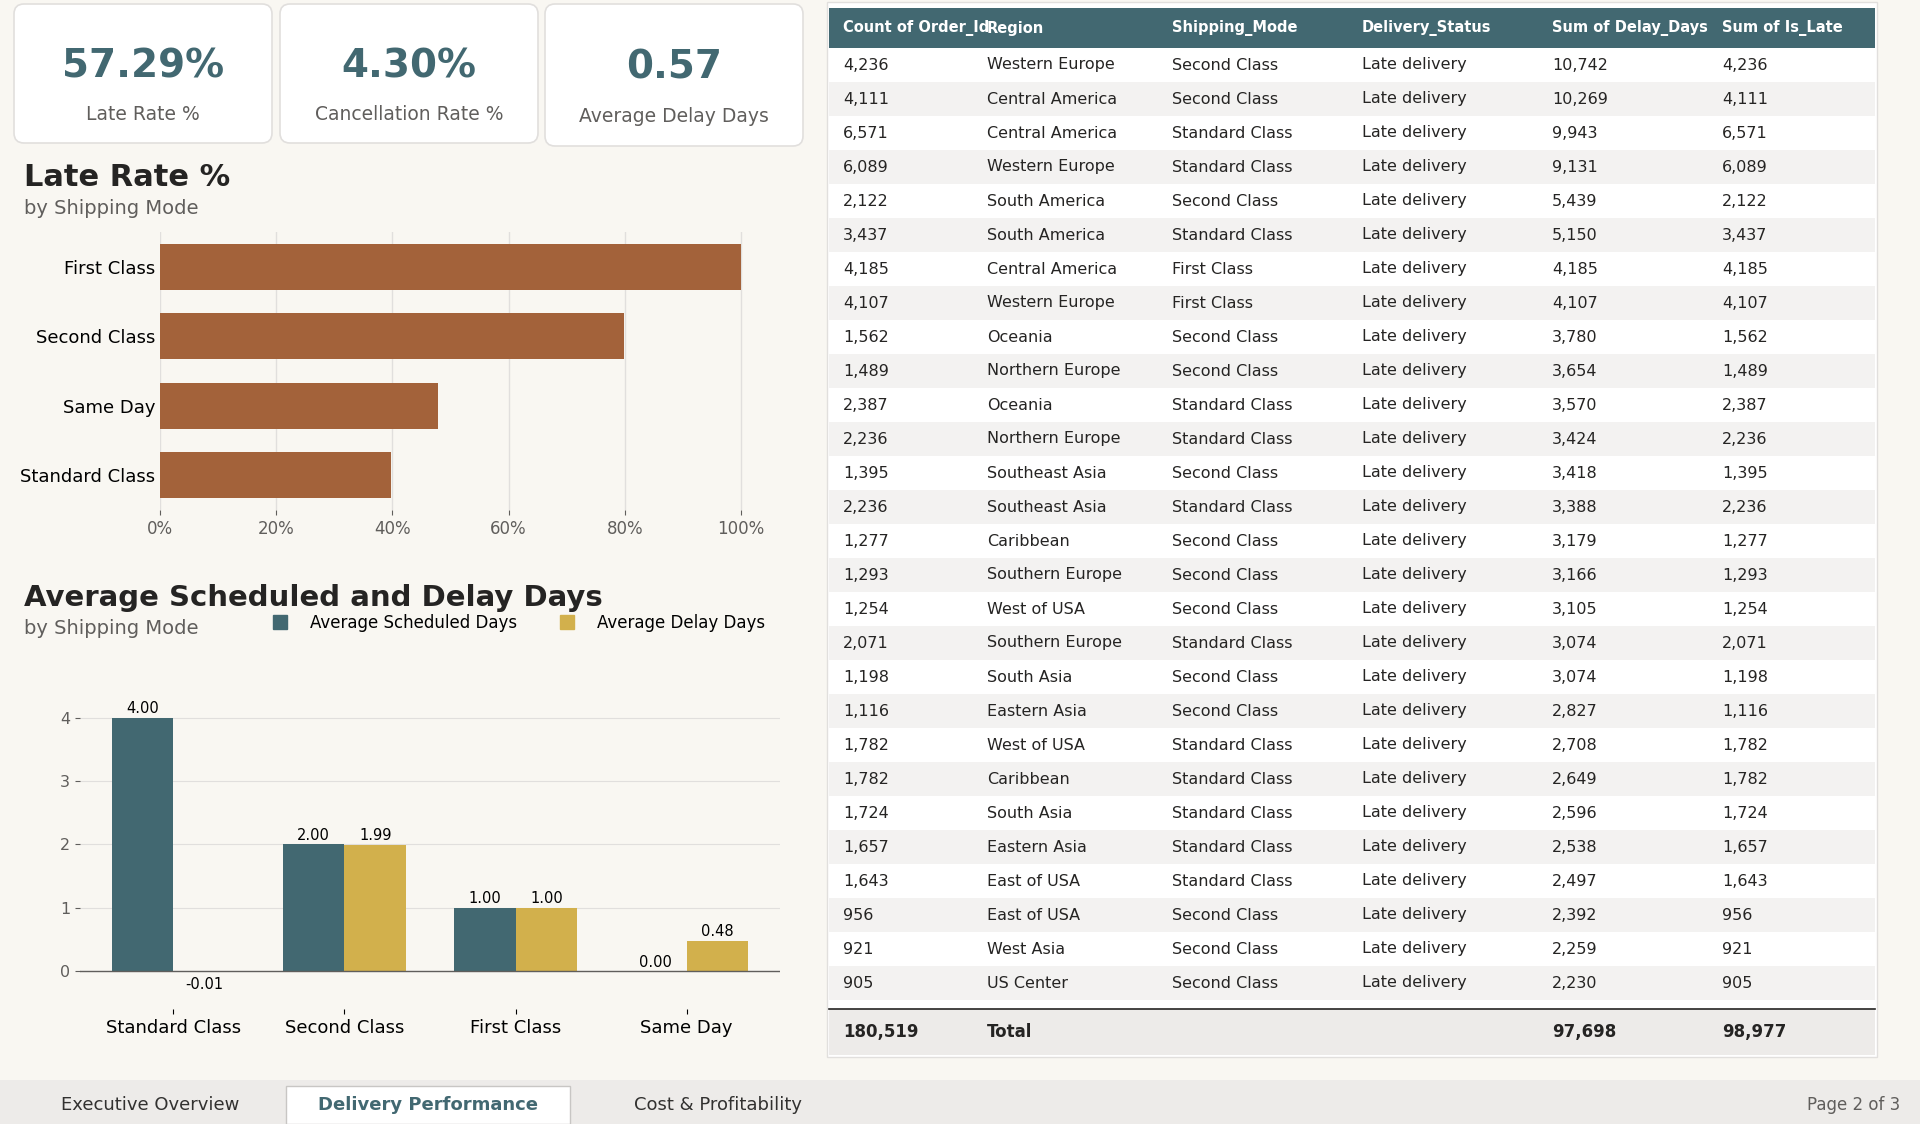

The dashboard page shown, as its layout file describes it:
{"tool":"powerbi","page":{"name":"Delivery Performance","canvas":[1920,1080],"ordinal":1},"visuals":[{"type":"cardVisual","fields":{"Data":["Fact_OrderItems.Late Rate %"]},"box":[14.8,96,265.7,147.1],"z":0},{"type":"cardVisual","fields":{"Data":["Fact_OrderItems.Cancellation Rate %"]},"box":[280.5,96,266,150],"z":1000},{"type":"cardVisual","fields":{"Data":["Fact_OrderItems.Average Delay Days"]},"box":[546.2,97.4,266,150],"z":2000},{"type":"clusteredBarChart","title":"Late Rate %","fields":{"Category":["Fact_OrderItems.Shipping_Mode"],"Y":["Fact_OrderItems.Late Rate %"]},"box":[8,252,800,360],"z":3000},{"type":"clusteredColumnChart","title":"Average Scheduled and Delay Days","fields":{"Category":["Fact_OrderItems.Shipping_Mode"],"Y":["Fact_OrderItems.Average Scheduled Days","Fact_OrderItems.Average Delay Days"]},"box":[10,612,800,444],"z":4000},{"type":"tableEx","fields":{"Values":["CountNonNull(Fact_OrderItems.Order_Id)","Fact_OrderItems.Region","Fact_OrderItems.Shipping_Mode","Fact_OrderItems.Delivery_Status","Sum(Fact_OrderItems.Delay_Days)","Sum(Fact_OrderItems.Is_Late)"]},"box":[828,96,1050,960],"z":5000},{"type":"textbox","box":[8,20,1244,76],"z":5001}]}

Visuals, with their boxes on the page's 1920x1080 design canvas (x1, y1, x2, y2). These are canvas units, not pixel positions in the 1920x1124 screenshot, which may show the page scaled, cropped or inside an application window:
cardVisual - Fact_OrderItems.Late Rate %: select_region(15, 96, 280, 243)
cardVisual - Fact_OrderItems.Cancellation Rate %: select_region(280, 96, 546, 246)
cardVisual - Fact_OrderItems.Average Delay Days: select_region(546, 97, 812, 247)
"Late Rate %" clusteredBarChart: select_region(8, 252, 808, 612)
"Average Scheduled and Delay Days" clusteredColumnChart: select_region(10, 612, 810, 1056)
tableEx - CountNonNull(Fact_OrderItems.Order_Id) x Fact_OrderItems.Region: select_region(828, 96, 1878, 1056)
textbox: select_region(8, 20, 1252, 96)
